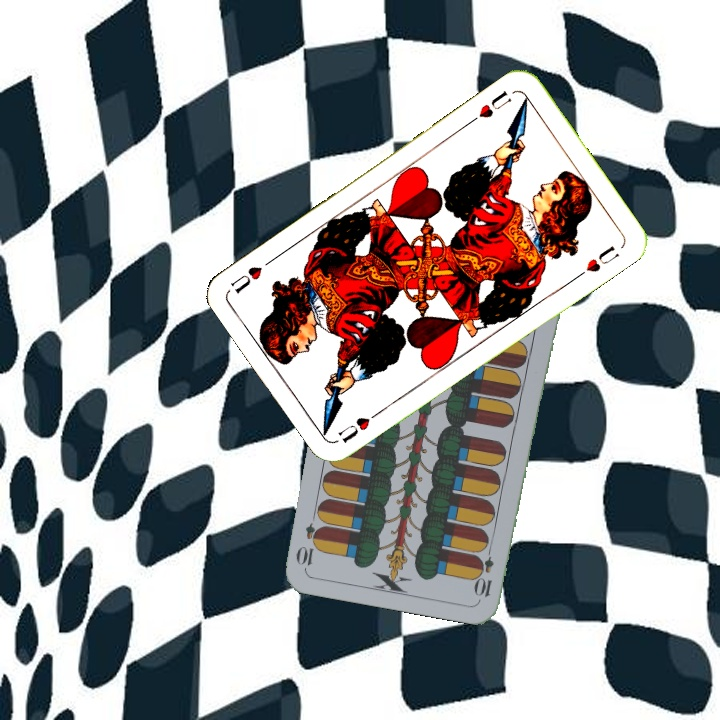E10: (473, 540, 497, 599)
HU: (334, 405, 385, 446), (465, 86, 514, 126)
